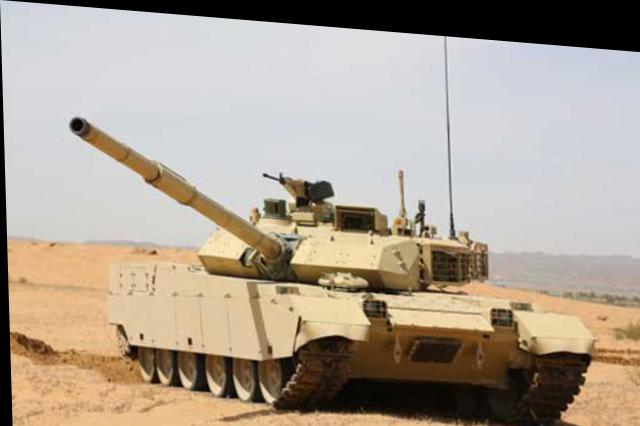tank: (108, 180, 587, 423)
